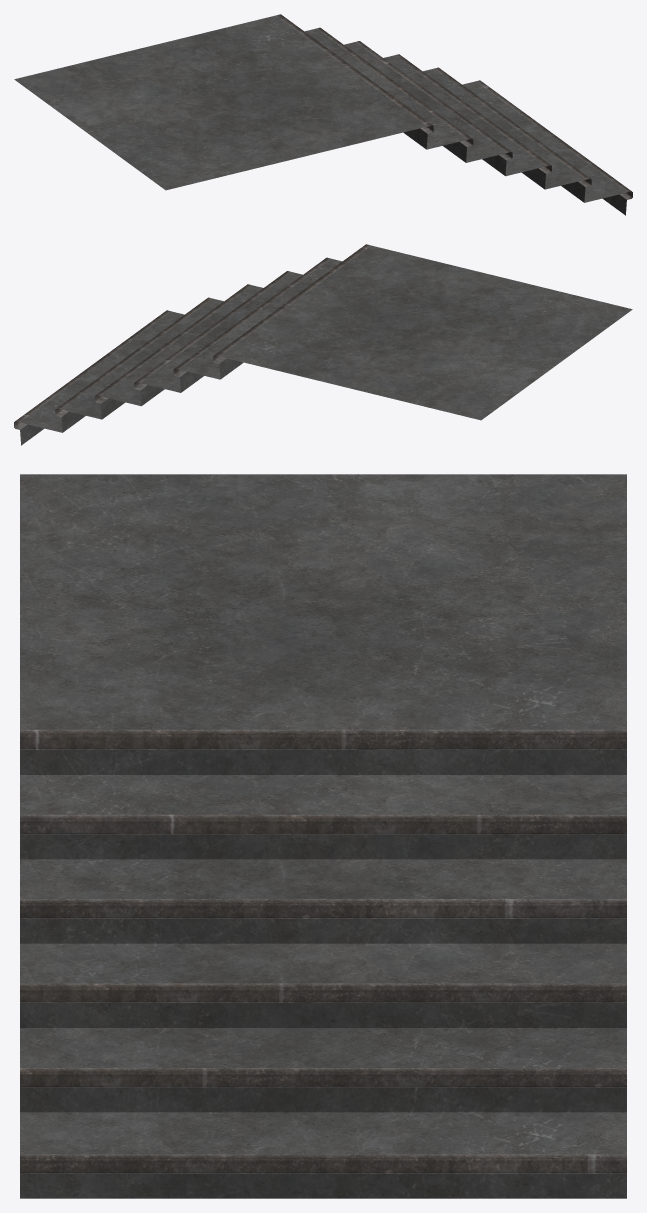
File: Psychiatric_Ward_Exterior_Stairs.glb
3 renders of one model, top to bottom at view 1: azimuth 30°, elevation 25°; view 2: azimuth 150°, elevation 25°; view 3: azimuth 270°, elevation 25°, orthographic. The views are drawn at different scales.
Parts seen in each view (by area): view 1: Psychiatric_Ward_Exterior_Stairs; view 2: Psychiatric_Ward_Exterior_Stairs; view 3: Psychiatric_Ward_Exterior_Stairs.
Boxes of the visible parts, x1,y1,x2,y2 form: Psychiatric_Ward_Exterior_Stairs: (14, 14, 632, 215); Psychiatric_Ward_Exterior_Stairs: (14, 244, 632, 445); Psychiatric_Ward_Exterior_Stairs: (20, 474, 626, 1198).
Bounding box in the file's own units: 3.55 × 1 × 2.
1 material, 1 textured.
